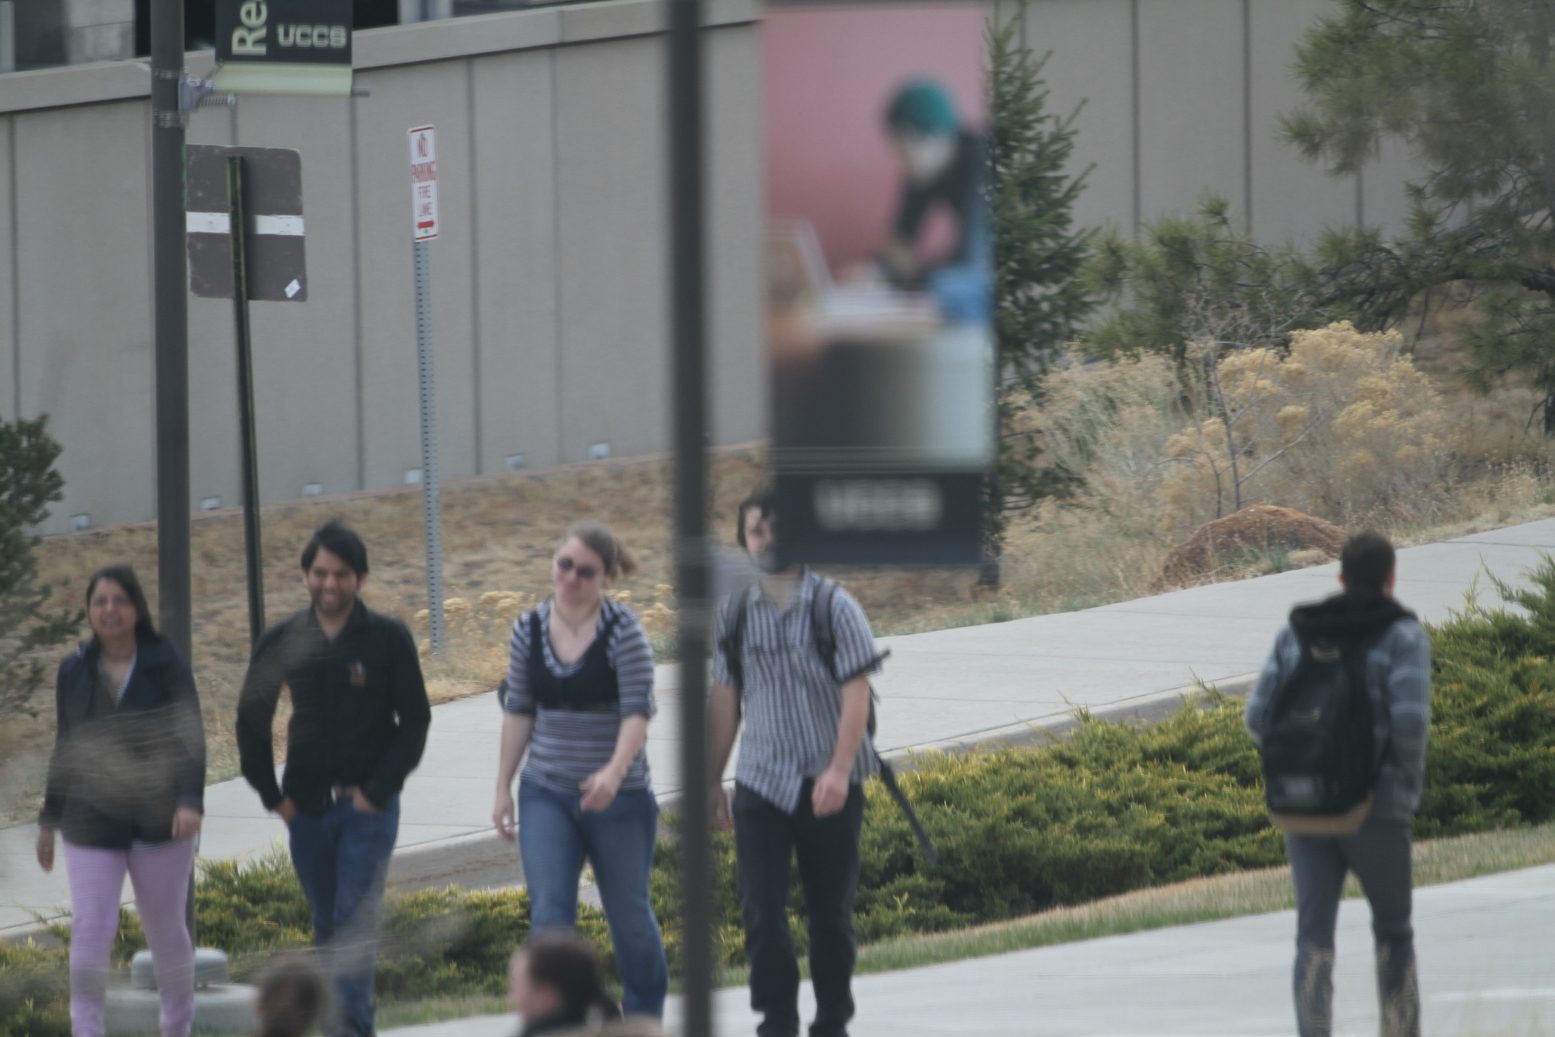face: (307, 551, 356, 612), (738, 514, 782, 570), (550, 553, 602, 598), (85, 583, 132, 627)
